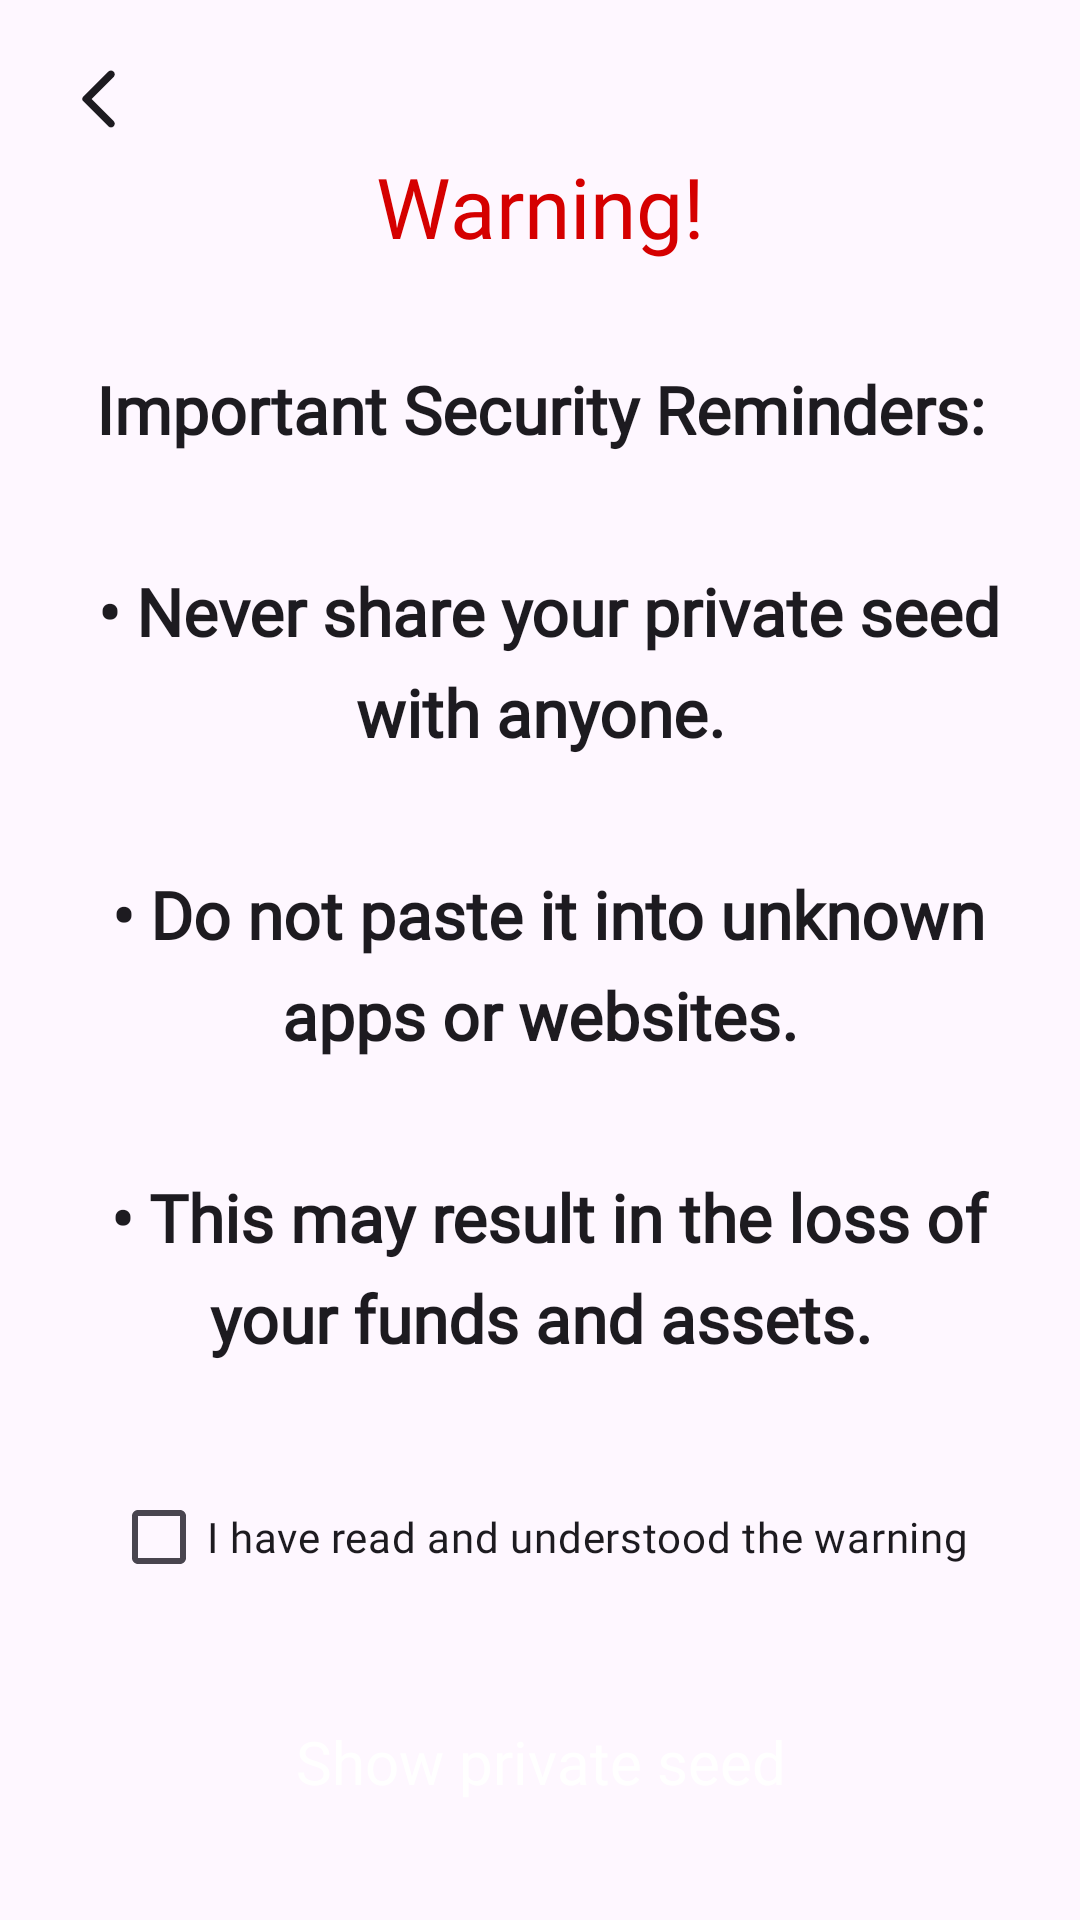

Icon click points for this 1080px x 1920px phone screenshot, format (x=x, y=y):
arrow back: (x=98, y=99)
